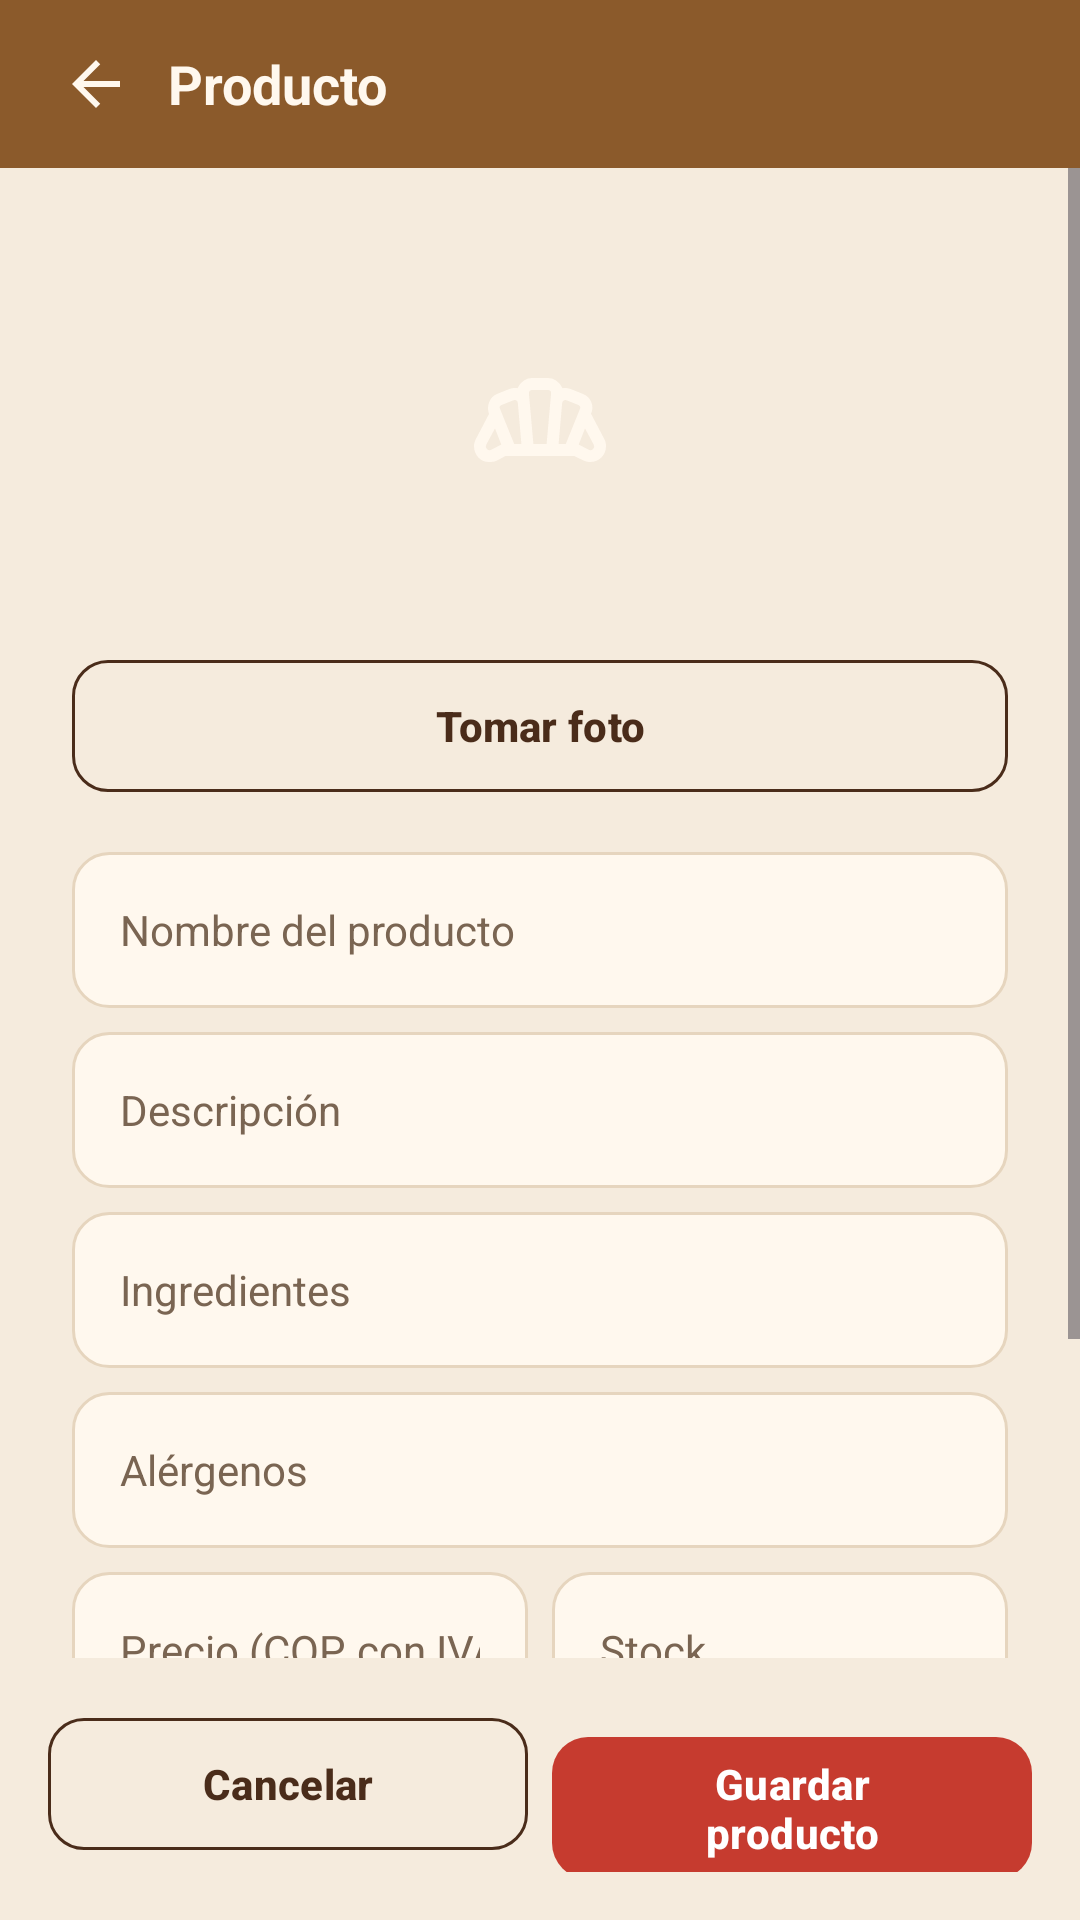

Icon click points for this 1080*1920 phone screenshot, format (x=x, y=y):
Volver: (x=96, y=84)
